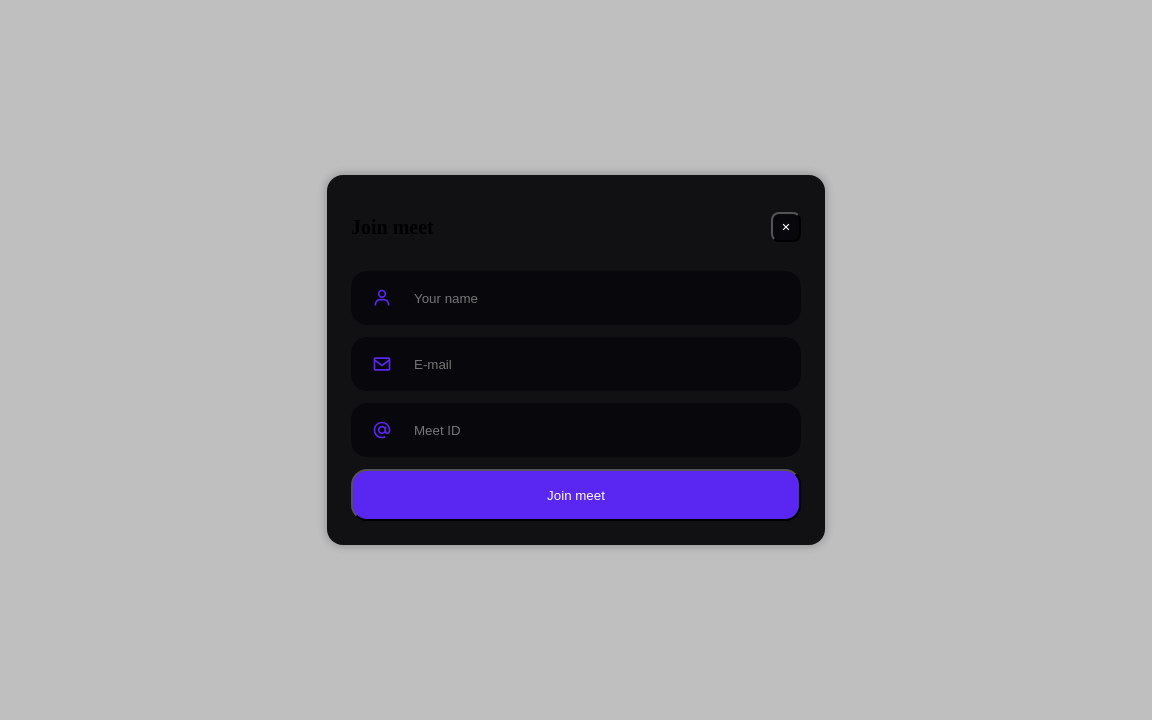
Test: join meet modal component tests › expect to enable form button with valid input values
The image size is (1152, 720).
Type "User Name" into the field with test id "joinMeetModalUserNameInput".
click(596, 298); type("User Name")  # box [412,271,780,325]
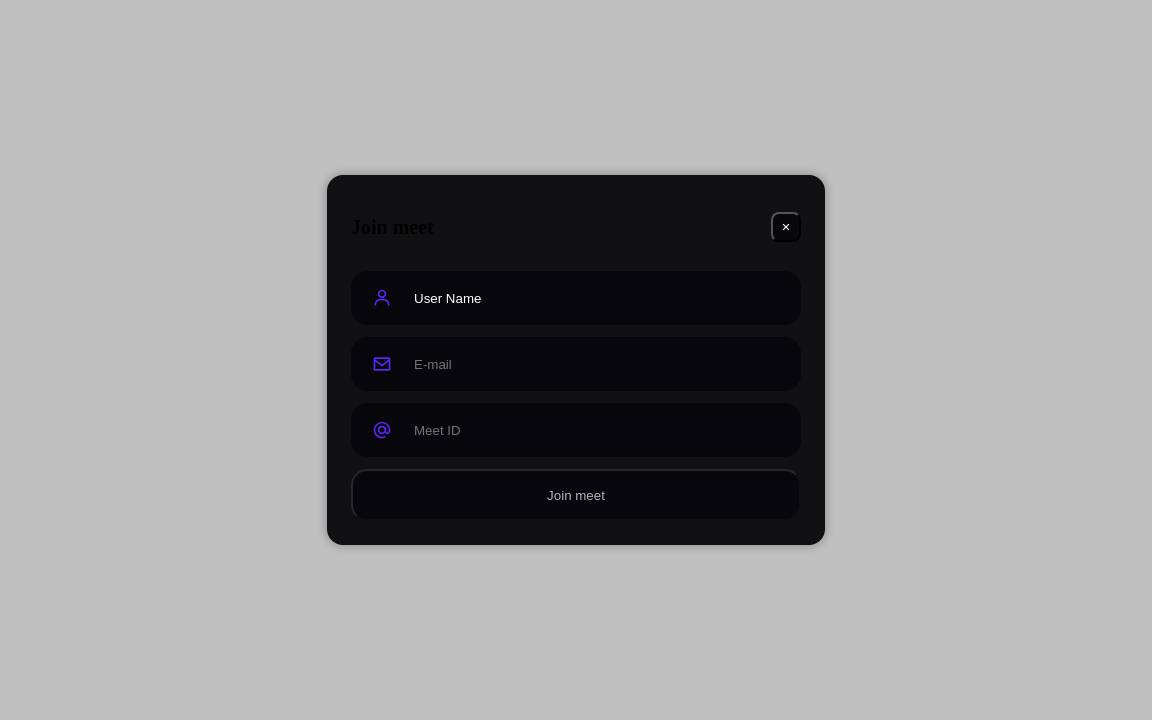
Type "user@gmail.com" into the field with test id "joinMeetModalUserEmailInput".
click(596, 364); type("user@gmail.com")  # box [412,337,780,391]
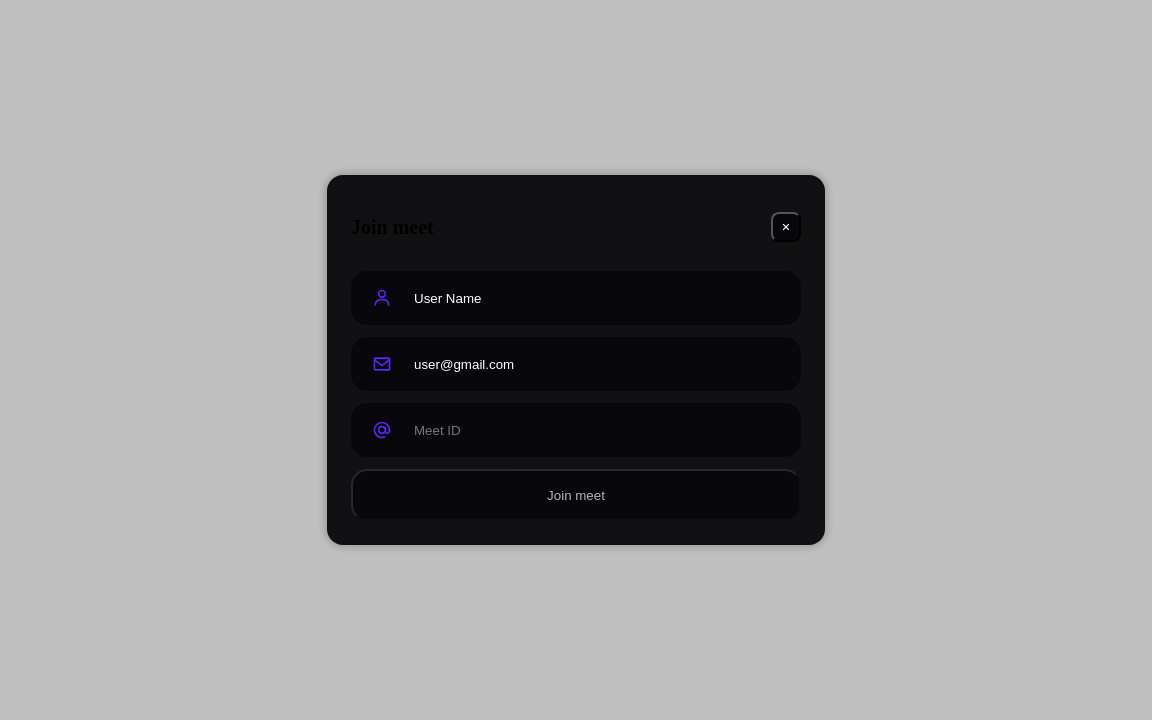
Type "434gfsgfd" into the field with test id "meetIdInput".
click(596, 430); type("434gfsgfd")  # box [412,403,780,457]
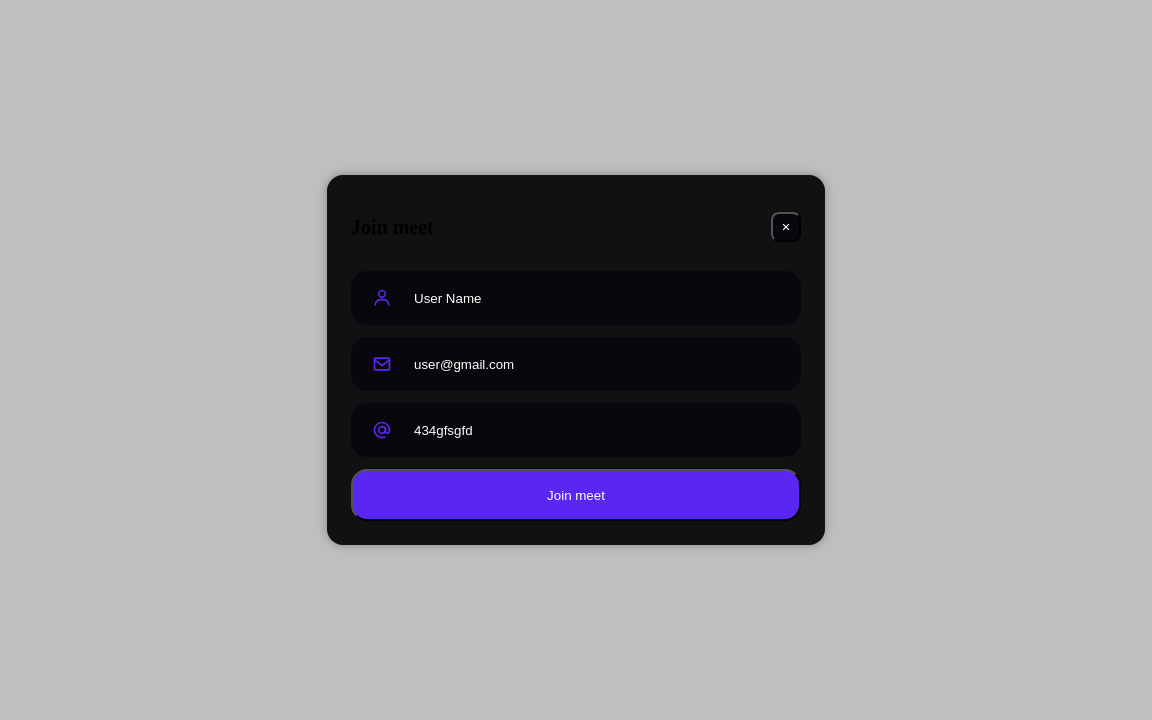
Check: the button with test id "joinMeetButton" is enabled, box [351,469,801,521]
